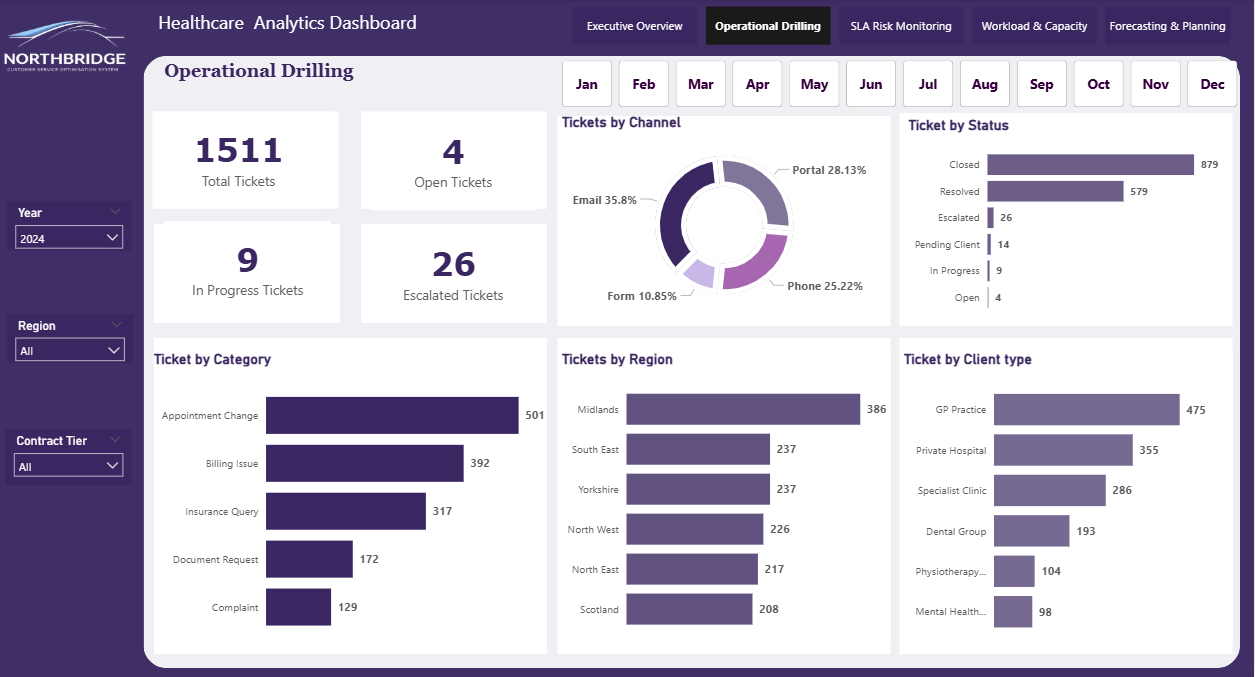

The page's visual inventory and layout, read from the dashboard file:
{"tool":"powerbi","page":{"name":"Operational Drilling","canvas":[1480,800],"ordinal":1},"visuals":[{"type":"shape","box":[171.4,67.2,1291.9,721.1],"z":0},{"type":"textbox","box":[190.9,67.2,298.7,46],"z":1000},{"type":"shape","box":[182,132.6,219.2,114.9],"z":2000},{"type":"shape","box":[427.7,132.6,219.2,114.9],"z":3000},{"type":"shape","box":[183.8,265.1,219.2,116.6],"z":4000},{"type":"shape","box":[427.7,265.1,219.2,116.6],"z":5000},{"type":"shape","box":[183.8,399.4,463,372.9],"z":6000},{"type":"shape","box":[659.2,399.4,392.4,372.9],"z":7000},{"type":"shape","box":[1062.2,399.4,392.4,372.9],"z":8000},{"type":"shape","box":[659.2,137.9,392.4,247.4],"z":9000},{"type":"shape","box":[1062.2,134.3,392.4,251],"z":10000},{"type":"clusteredBarChart","title":"Ticket by Category","fields":{"Category":["TICKETCATEGORIES.CATEGORY_NAME"],"Y":["Calculations.Total Tickets"]},"box":[178.5,413.6,498.4,353.5],"z":11000},{"type":"donutChart","title":"Tickets by Channel ","fields":{"Y":["Calculations.Total Tickets"],"Category":["TICKETS.CHANNEL"]},"box":[659.2,134.3,392.4,243.9],"z":12000},{"type":"clusteredBarChart","title":"Tickets by Region","fields":{"Category":["CLIENTS.REGION"],"Y":["Calculations.Total Tickets"]},"box":[659.2,413.6,392.4,348.2],"z":13000},{"type":"clusteredBarChart","title":"Ticket by Client type","fields":{"Category":["CLIENTS.CLIENT_TYPE"],"Y":["Calculations.Total Tickets"]},"box":[1062.2,413.6,392.4,351.7],"z":14000},{"type":"clusteredBarChart","title":"Ticket by Status","fields":{"Category":["TICKETS.STATUS"],"Y":["Calculations.Total Tickets"]},"box":[1067.5,137.9,380,243.9],"z":15000},{"type":"cardVisual","fields":{"Data":["Calculations.Total Tickets"]},"box":[183.8,132.6,199.7,114.9],"z":16000},{"type":"cardVisual","fields":{"Data":["Calculations.Open Tickets"]},"box":[438.3,134.3,196.2,114.9],"z":17000},{"type":"cardVisual","fields":{"Data":["Calculations.In Progress Tickets"]},"box":[196.2,261.6,196.2,114.9],"z":18000},{"type":"cardVisual","fields":{"Data":["Calculations.Escalated Tickets"]},"box":[438.3,266.9,196.2,114.9],"z":19000},{"type":"slicer","fields":{"Values":["Date.Year"]},"box":[10.6,238.6,146.7,58.3],"z":20000},{"type":"slicer","fields":{"Values":["CLIENTS.REGION"]},"box":[10.6,371.1,148.5,58.3],"z":21000},{"type":"slicer","fields":{"Values":["CLIENTS.CONTRACT_TIER"]},"box":[8.8,507.2,148.5,65.4],"z":22000},{"type":"image","box":[0,0,157.3,109.6],"z":23000},{"type":"textbox","box":[183.8,7.1,339.3,46],"z":24000},{"type":"pageNavigator","box":[676.9,8.8,779.4,46],"z":25000},{"type":"advancedSlicerVisual","fields":{"Values":["Date.Month_name"]},"box":[659.2,67.2,814.7,65.4],"z":26000}]}

Visuals, with their boxes in screenshot pixels (x1, y1, x2, y2), scaled from the page's 1480x800 canvas onto the 1255x677 screenshot:
shape: rect(145, 57, 1241, 667)
textbox: rect(162, 57, 415, 96)
shape: rect(154, 112, 340, 209)
shape: rect(363, 112, 549, 209)
shape: rect(156, 224, 342, 323)
shape: rect(363, 224, 549, 323)
shape: rect(156, 338, 548, 654)
shape: rect(559, 338, 892, 654)
shape: rect(901, 338, 1233, 654)
shape: rect(559, 117, 892, 326)
shape: rect(901, 114, 1233, 326)
"Ticket by Category" clusteredBarChart: rect(151, 350, 574, 649)
"Tickets by Channel " donutChart: rect(559, 114, 892, 320)
"Tickets by Region" clusteredBarChart: rect(559, 350, 892, 645)
"Ticket by Client type" clusteredBarChart: rect(901, 350, 1233, 648)
"Ticket by Status" clusteredBarChart: rect(905, 117, 1227, 323)
cardVisual - Calculations.Total Tickets: rect(156, 112, 325, 209)
cardVisual - Calculations.Open Tickets: rect(372, 114, 538, 211)
cardVisual - Calculations.In Progress Tickets: rect(166, 221, 333, 319)
cardVisual - Calculations.Escalated Tickets: rect(372, 226, 538, 323)
slicer - Date.Year: rect(9, 202, 133, 251)
slicer - CLIENTS.REGION: rect(9, 314, 135, 363)
slicer - CLIENTS.CONTRACT_TIER: rect(7, 429, 133, 485)
image: rect(0, 0, 133, 93)
textbox: rect(156, 6, 444, 45)
pageNavigator: rect(574, 7, 1235, 46)
advancedSlicerVisual - Date.Month_name: rect(559, 57, 1250, 112)
